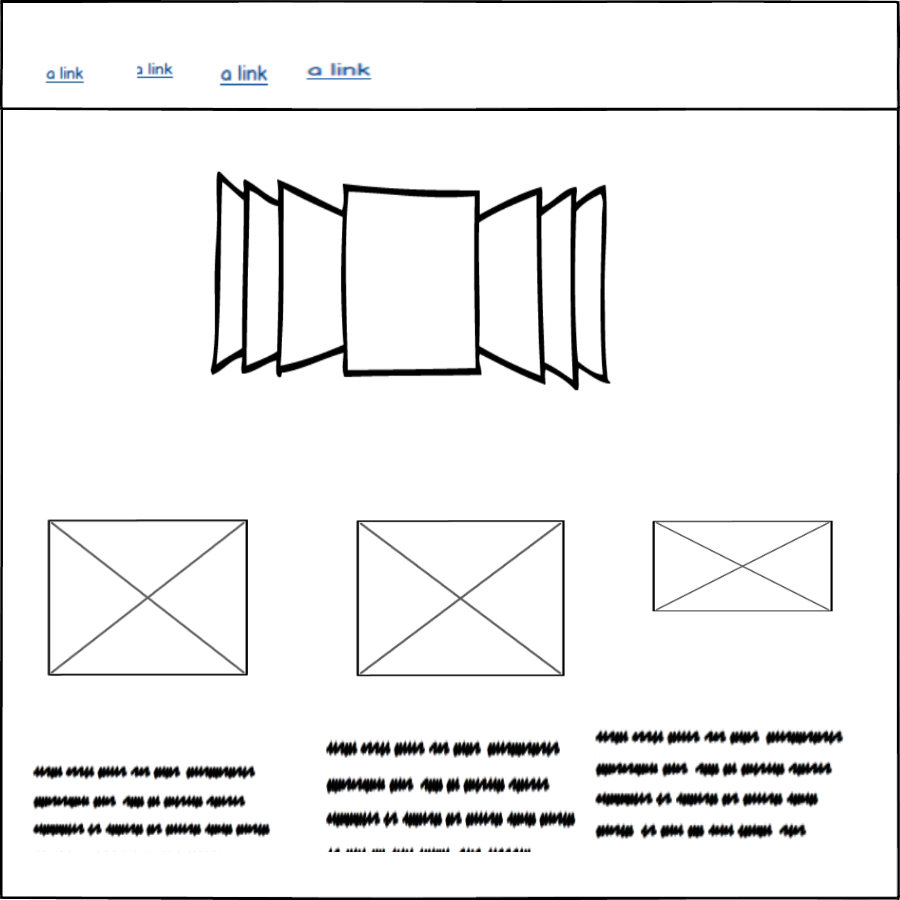image: (42, 514, 255, 684), (353, 512, 563, 674), (648, 517, 838, 617)
label: (322, 736, 581, 863), (590, 725, 852, 848), (26, 758, 282, 854)
navlink: (301, 54, 381, 91), (38, 49, 100, 92), (126, 51, 183, 93), (219, 59, 276, 92)
slideshow: (208, 158, 623, 391)
